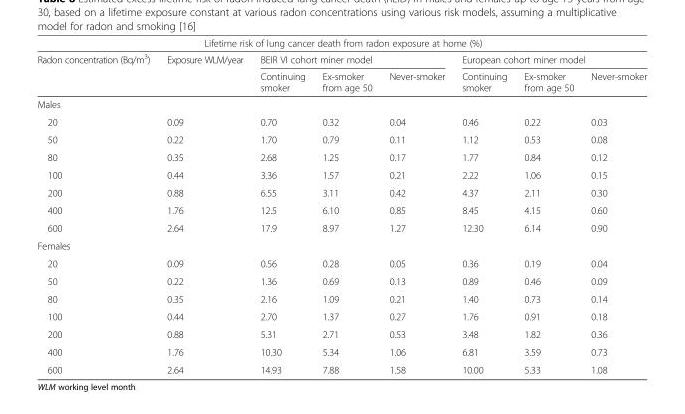table: (36, 36, 646, 374)
table column: (36, 36, 157, 374), (157, 36, 251, 374), (380, 36, 452, 374), (313, 36, 380, 374), (515, 36, 581, 374), (581, 36, 646, 374), (452, 36, 515, 374), (251, 36, 313, 374)
table column header: (36, 36, 646, 95)
table projected row header: (36, 236, 646, 254), (36, 95, 646, 112)
table row: (36, 67, 646, 95), (36, 112, 646, 130), (36, 130, 646, 148), (36, 165, 646, 183), (36, 183, 646, 201), (36, 218, 646, 236), (36, 236, 646, 254), (36, 271, 646, 289), (36, 289, 646, 307), (36, 307, 646, 325), (36, 342, 646, 360), (36, 50, 646, 67), (36, 95, 646, 112), (36, 148, 646, 165), (36, 201, 646, 218), (36, 254, 646, 271), (36, 325, 646, 342), (36, 36, 646, 50), (36, 360, 646, 374)
table spanning cell: (36, 36, 646, 50), (36, 50, 157, 95), (157, 50, 251, 95), (251, 50, 452, 67), (452, 50, 646, 67)
